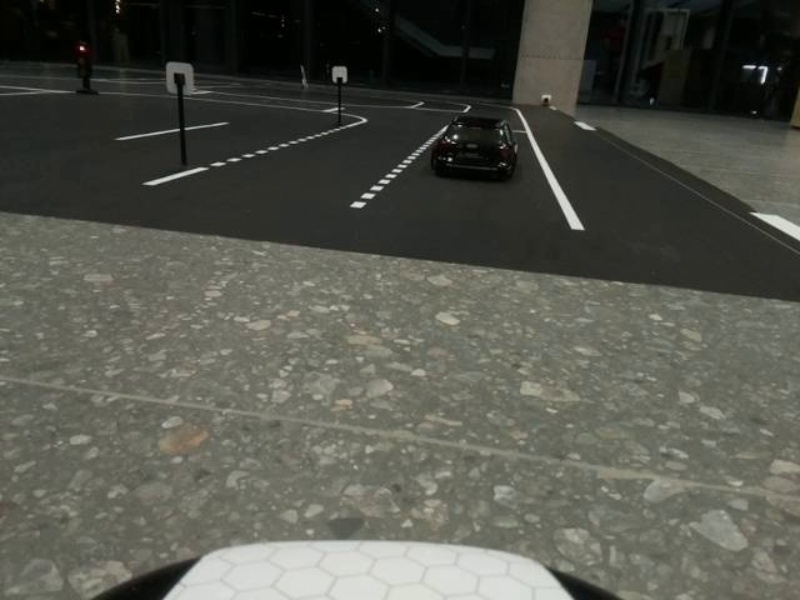car: (426, 112, 529, 189)
